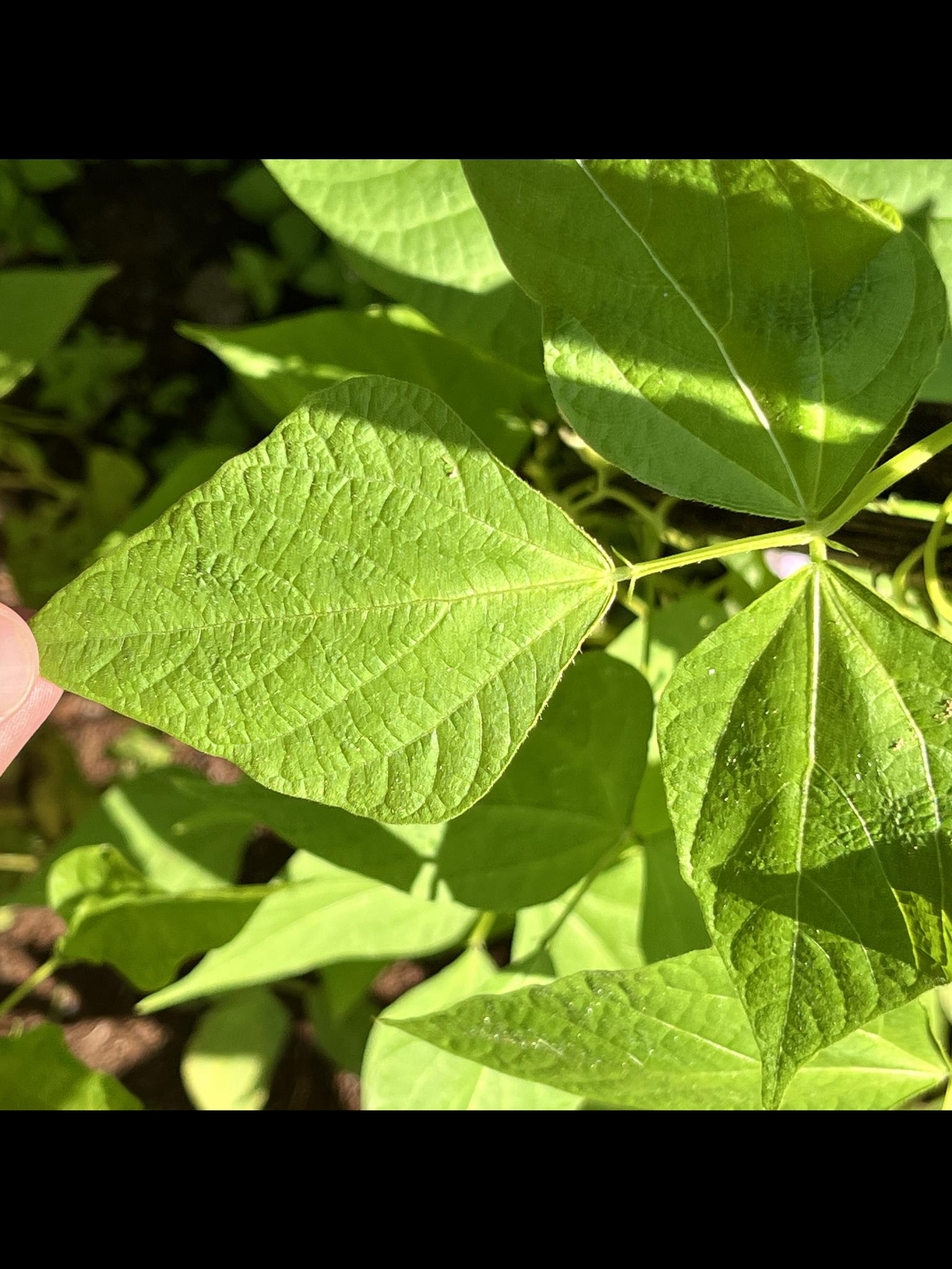sehat: (34, 354, 629, 818)
